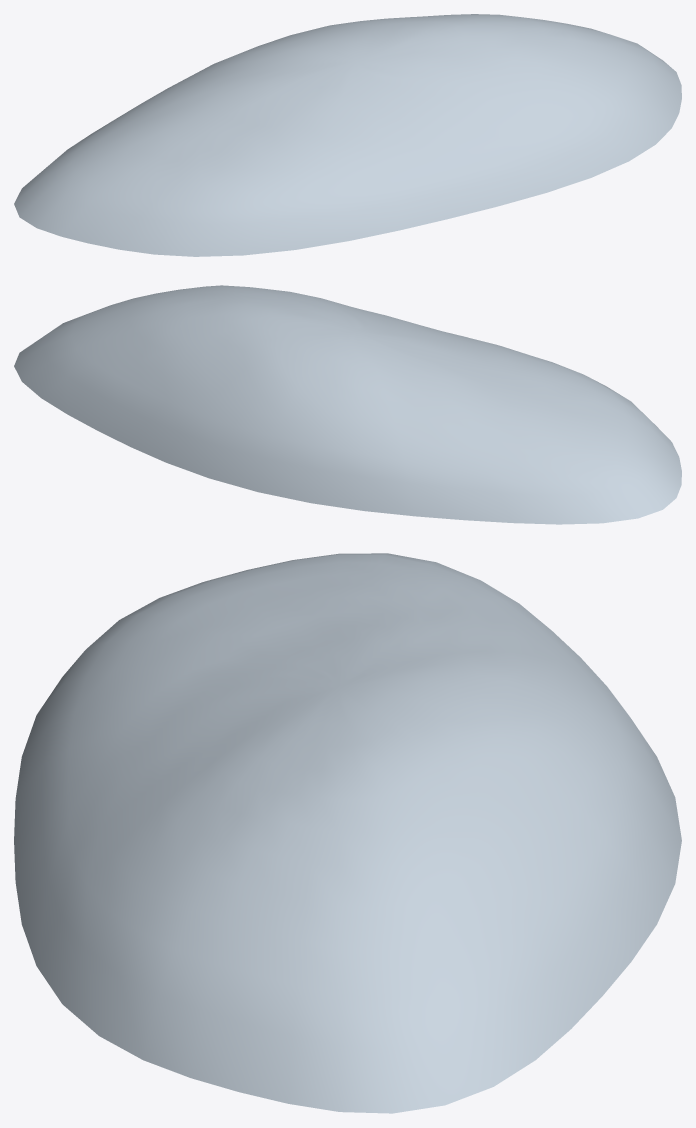
Rendered from snowdrift_01.glb.
The picture shows the model from 3 angles, top to bottom: view 1: azimuth 30°, elevation 25°; view 2: azimuth 150°, elevation 25°; view 3: azimuth 270°, elevation 25°; orthographic projection. The views are drawn at different scales.
Parts seen in each view (by area): view 1: snowdrift_01__m9_snow; view 2: snowdrift_01__m9_snow; view 3: snowdrift_01__m9_snow.
Part boxes in pixels (x1,y1,x2,y2): snowdrift_01__m9_snow: (14,14,681,256); snowdrift_01__m9_snow: (14,285,681,524); snowdrift_01__m9_snow: (14,553,681,1113).
Bounding box in the file's own units: 2.45 × 0.3444 × 1.27.
